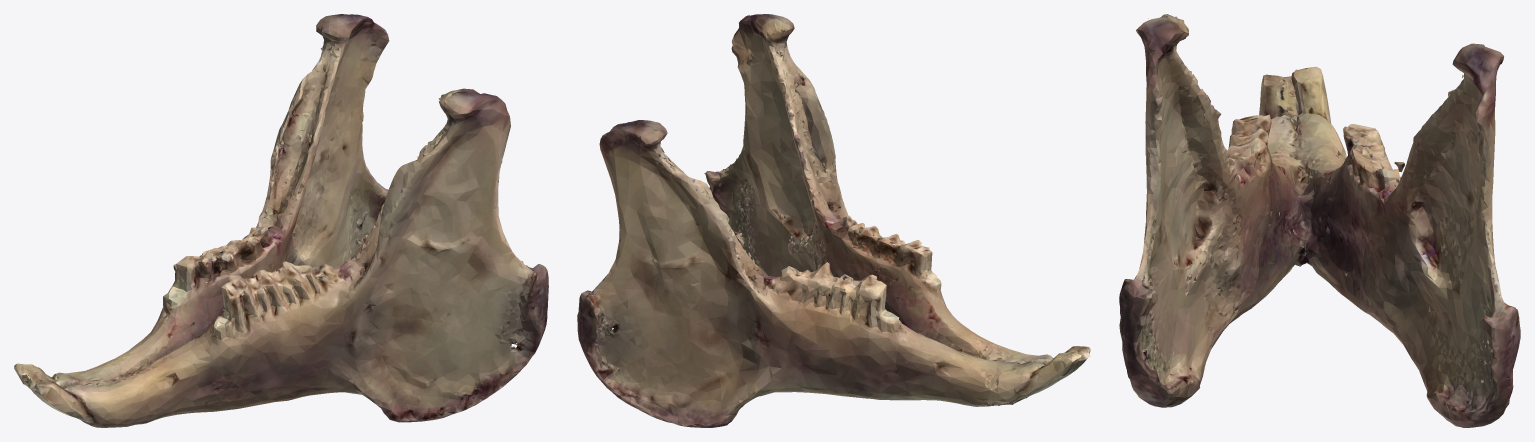
The model's file is jaw.glb.
The picture shows the model from 3 angles, left to right: view 1: azimuth 30°, elevation 25°; view 2: azimuth 150°, elevation 25°; view 3: azimuth 270°, elevation 25°; orthographic projection. The views are drawn at different scales.
Parts seen in each view (by area): view 1: JAW; view 2: JAW; view 3: JAW.
Boxes of the visible parts, box(x1,y1,x2,y2) form: JAW: box(14, 14, 548, 427); JAW: box(577, 14, 1090, 427); JAW: box(1119, 14, 1520, 427).
Size of the model in its own units: 72.55 by 51.39 by 44.57.
Materials: 1 (1 with a texture image).
